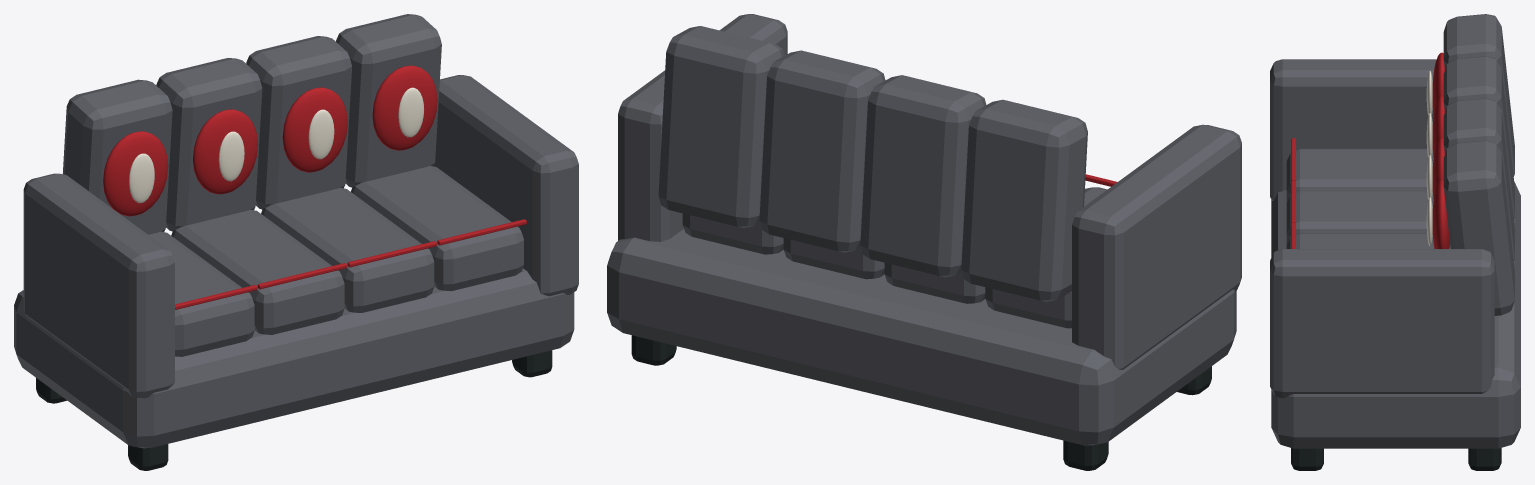
Rendered from better.glb.
The picture shows the model from 3 angles, left to right: view 1: azimuth 30°, elevation 25°; view 2: azimuth 150°, elevation 25°; view 3: azimuth 270°, elevation 25°; orthographic projection. The views are drawn at different scales.
Parts seen in each view (by area): view 1: Armrest, Decorative cushion, Ghost motif, Sofa foot; view 2: Armrest, Sofa foot; view 3: Armrest, Decorative cushion, Sofa foot, Ghost motif.
Boxes of the visible parts, x1,y1,x2,y2 form: Armrest: [14, 14, 578, 448]; Decorative cushion: [103, 65, 526, 309]; Ghost motif: [129, 87, 424, 203]; Sofa foot: [36, 350, 552, 470]; Armrest: [607, 14, 1241, 445]; Sofa foot: [631, 335, 1211, 470]; Armrest: [1270, 14, 1520, 448]; Decorative cushion: [1291, 52, 1449, 248]; Sofa foot: [1291, 448, 1501, 470]; Ghost motif: [1426, 71, 1432, 245].
Size of the model in its own units: 1 by 0.6299 by 0.5028.
